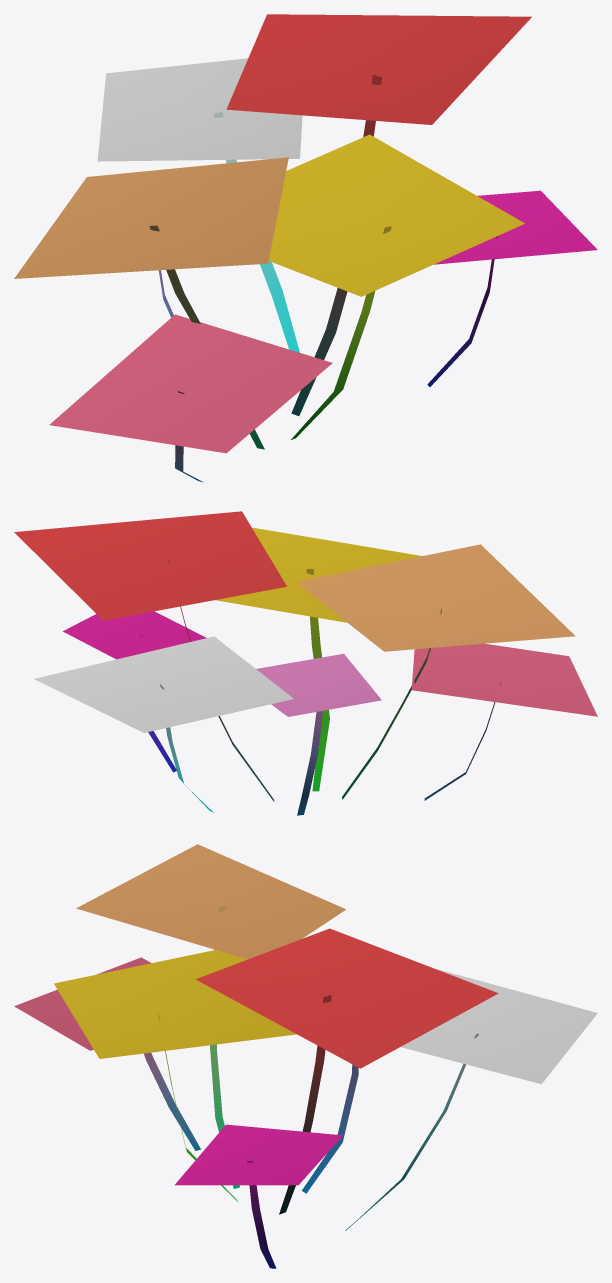
File: Wood_Sorrel_wcwmchzja_Mid_wcwmchzja_VarB_LOD1.fbx
3 renders of one model, top to bottom at view 1: azimuth 30°, elevation 25°; view 2: azimuth 150°, elevation 25°; view 3: azimuth 270°, elevation 25°, orthographic. The views are drawn at different scales.
Visible parts, largest first — view 1: _jovs_VarB_LOD2; view 2: _jovs_VarB_LOD2; view 3: _jovs_VarB_LOD2.
Boxes of the visible parts, x1,y1,x2,y2 form: _jovs_VarB_LOD2: (14,14,597,482); _jovs_VarB_LOD2: (14,511,597,815); _jovs_VarB_LOD2: (14,844,597,1268).
Size of the model in its own units: 11.17 by 5.34 by 10.32.
